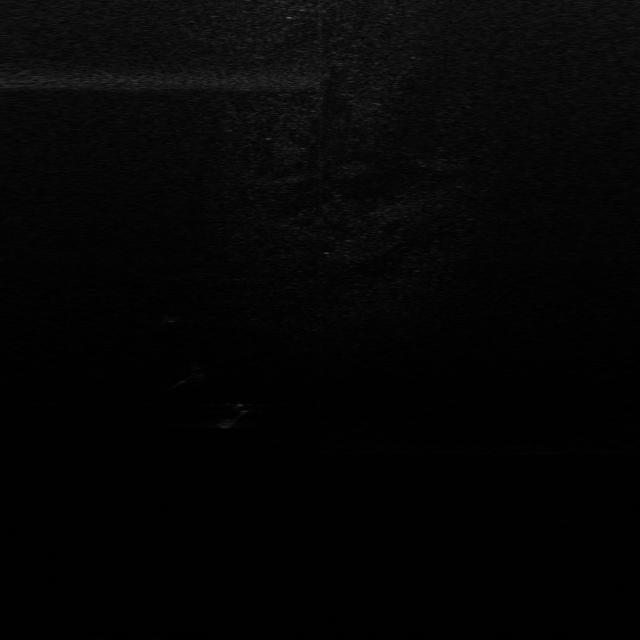ball: (184, 363, 210, 382)
circle cage: (160, 306, 186, 324)
tyre: (212, 402, 249, 428)
